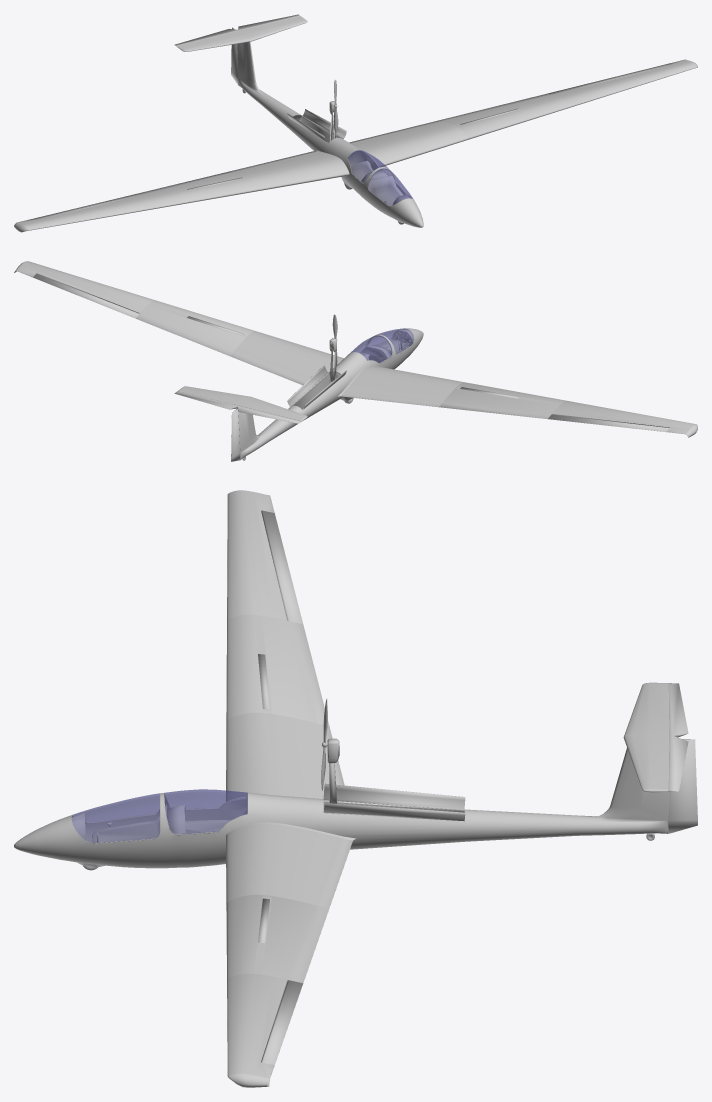
File: glider.obj
3 renders of one model, top to bottom at view 1: azimuth 30°, elevation 25°; view 2: azimuth 150°, elevation 25°; view 3: azimuth 270°, elevation 25°, orthographic. The views are drawn at different scales.
Parts seen in each view (by area): view 1: fuselage_fuselage.mesh, ailesL0_ailesL0.mesh, ailesR0_ailesR0.mesh, ailesL1_ailesL1.mesh, ailesR1_ailesR1.mesh, ailesL2_ailesL2.mesh, ailesR2_ailesR2.mesh, derive_derive.mesh, vitreA_vitreA.mesh, fond.003_fond.mesh.003, vitreB_vitreB.mesh, profondeur_profondeur.mesh (+2 smaller); view 2: fuselage_fuselage.mesh, ailesR0_ailesR0.mesh, ailesL0_ailesL0.mesh, ailesL1_ailesL1.mesh, ailesR1_ailesR1.mesh, ailesL2_ailesL2.mesh, ailesR2_ailesR2.mesh, derive_derive.mesh, vitreB_vitreB.mesh, profondeur_profondeur.mesh, aileronG_aileronG.mesh, aileronD_aileronD.mesh (+4 smaller); view 3: fuselage_fuselage.mesh, ailesR1_ailesR1.mesh, ailesL0_ailesL0.mesh, ailesR0_ailesR0.mesh, ailesL1_ailesL1.mesh, ailesR2_ailesR2.mesh, ailesL2_ailesL2.mesh, derive_derive.mesh, vitreA_vitreA.mesh, vitreB_vitreB.mesh, porteD_porteD.mesh, direction_direction.mesh (+8 smaller).
Part boxes in pixels (x1,y1,x2,y2): fuselage_fuselage.mesh: (237, 42, 423, 227); ailesL0_ailesL0.mesh: (349, 120, 467, 166); ailesR0_ailesR0.mesh: (230, 151, 349, 190); ailesL1_ailesL1.mesh: (439, 93, 568, 139); ailesR1_ailesR1.mesh: (136, 171, 258, 208); ailesL2_ailesL2.mesh: (552, 59, 697, 107); ailesR2_ailesR2.mesh: (14, 195, 156, 232); derive_derive.mesh: (177, 16, 307, 51); vitreA_vitreA.mesh: (368, 168, 412, 205); fond.003_fond.mesh.003: (350, 161, 403, 206); vitreB_vitreB.mesh: (347, 150, 390, 183); profondeur_profondeur.mesh: (174, 14, 300, 46); fuselage_fuselage.mesh: (238, 328, 423, 459); ailesR0_ailesR0.mesh: (341, 366, 464, 407); ailesL0_ailesL0.mesh: (230, 331, 343, 385); ailesL1_ailesL1.mesh: (136, 300, 255, 355); ailesR1_ailesR1.mesh: (439, 382, 566, 418); ailesL2_ailesL2.mesh: (14, 261, 154, 312); ailesR2_ailesR2.mesh: (552, 401, 697, 437); derive_derive.mesh: (178, 386, 307, 421); vitreB_vitreB.mesh: (350, 335, 392, 363); profondeur_profondeur.mesh: (174, 391, 301, 423); aileronG_aileronG.mesh: (33, 273, 139, 318); aileronD_aileronD.mesh: (548, 414, 669, 431); fuselage_fuselage.mesh: (14, 748, 670, 868); ailesR1_ailesR1.mesh: (226, 614, 329, 725); ailesL0_ailesL0.mesh: (226, 823, 352, 908); ailesR0_ailesR0.mesh: (226, 712, 348, 802); ailesL1_ailesL1.mesh: (226, 894, 329, 982); ailesR2_ailesR2.mesh: (227, 490, 287, 620); ailesL2_ailesL2.mesh: (227, 973, 286, 1087); derive_derive.mesh: (623, 682, 669, 792); vitreA_vitreA.mesh: (71, 793, 159, 842); vitreB_vitreB.mesh: (164, 789, 247, 834); porteD_porteD.mesh: (323, 783, 465, 810); direction_direction.mesh: (668, 739, 697, 833).
Size of the model in its own units: 17.01 by 2.37 by 8.34.
